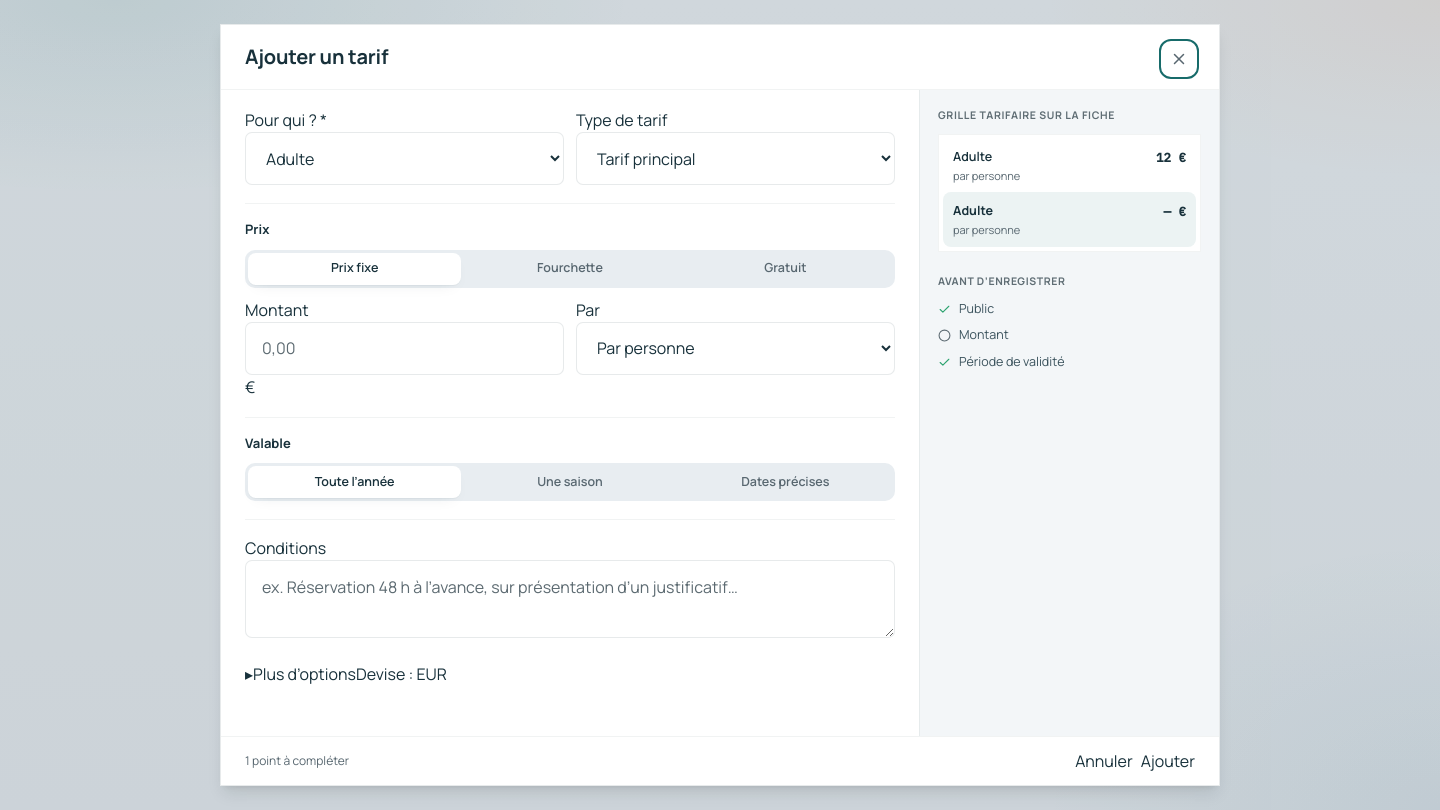
PricingLineEditModal (C · Aperçu) › shows age fields only for a child public
This screenshot has width=1440, height=810.
Select "Enfant" in the dropdown named "Public / bénéficiaire" at x=404, y=159, box [245,132,564,185]
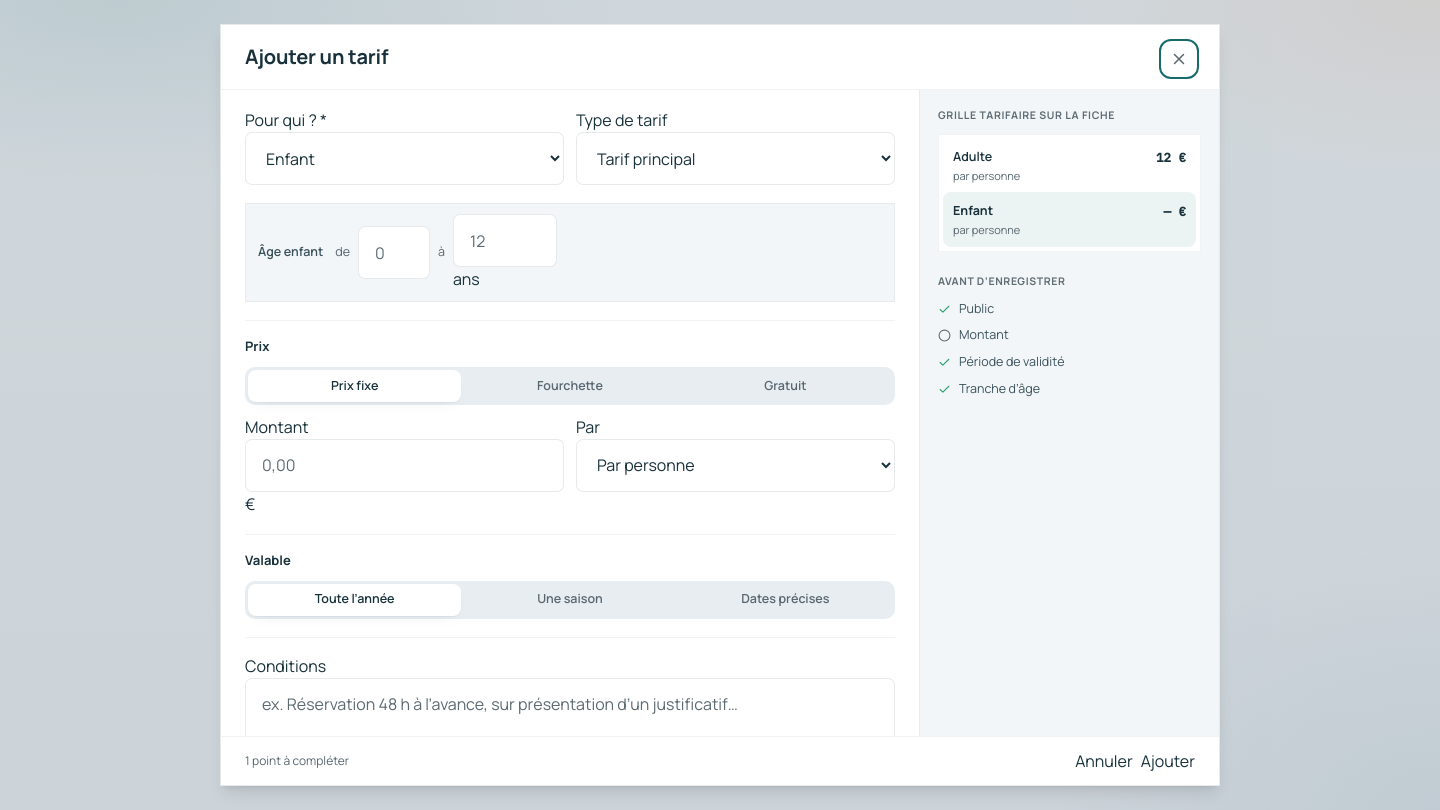
Check: the number field named "Âge enfant minimum" is shown, box [358,226,430,279]
